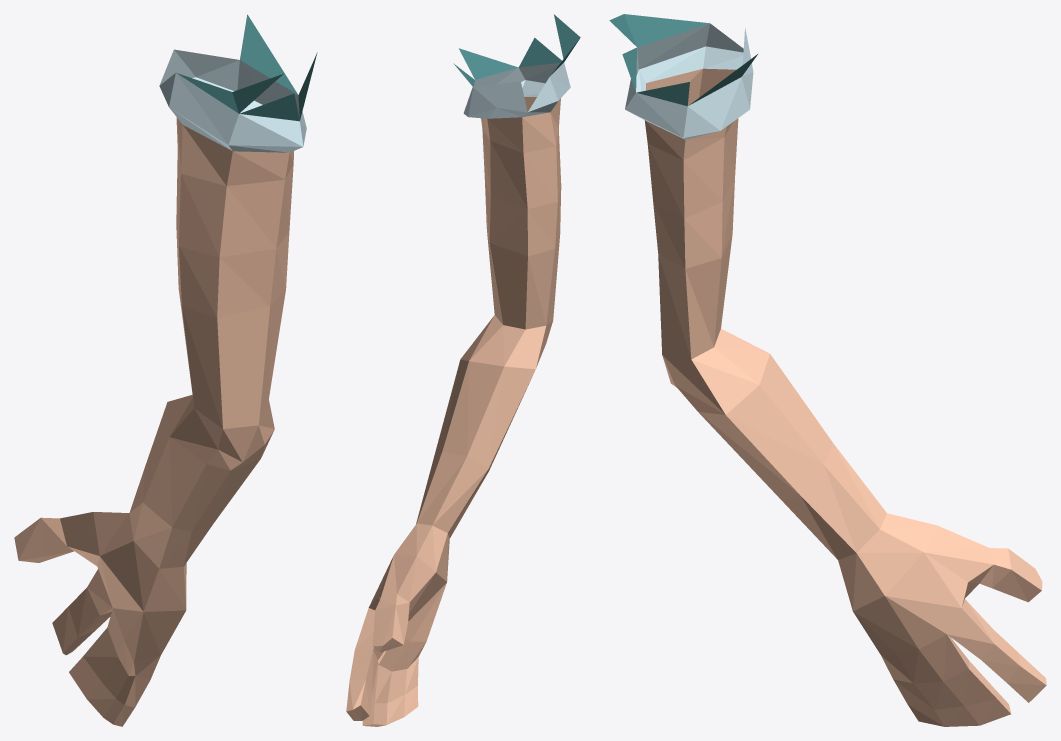
The model's file is Mother_01_ArmR_38.obj.
3 views of the same model, side by side, from view 1: azimuth 30°, elevation 25°; view 2: azimuth 150°, elevation 25°; view 3: azimuth 270°, elevation 25° (orthographic). The views are drawn at different scales.
Visible parts, largest first — view 1: Mother_01_ArmR_38; view 2: Mother_01_ArmR_38; view 3: Mother_01_ArmR_38.
Boxes of the visible parts, left/top/right/bottom form: Mother_01_ArmR_38: left=14, top=14, right=317, bottom=726; Mother_01_ArmR_38: left=346, top=14, right=580, bottom=726; Mother_01_ArmR_38: left=609, top=14, right=1046, bottom=726.
Bounding box in the file's own units: 0.1419 × 0.7648 × 0.4339.
Materials: 1 (1 with a texture image).
